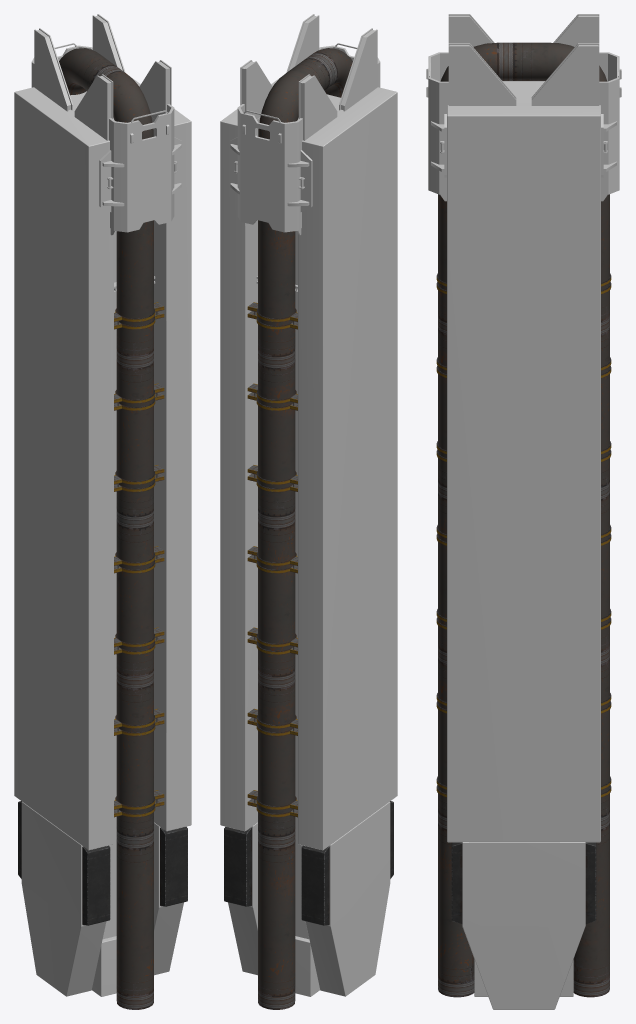
File: Wall_Large_05.fbx
3 renders of one model, left to right at view 1: azimuth 30°, elevation 25°; view 2: azimuth 150°, elevation 25°; view 3: azimuth 270°, elevation 25°, orthographic. The views are drawn at different scales.
Parts seen in each view (by area): view 1: Concrete_Block, Pipe2, Element2, Element3, Plate; view 2: Concrete_Block, Pipe2, Element2, Element3, Plate; view 3: Concrete_Block, Pipe2, Element2, Element3.
Boxes of the visible parts, left/top/right/bottom form: Concrete_Block: left=14, top=76, right=191, bottom=996; Pipe2: left=59, top=48, right=164, bottom=1009; Element2: left=31, top=14, right=182, bottom=235; Element3: left=18, top=801, right=187, bottom=925; Plate: left=102, top=293, right=116, bottom=939; Concrete_Block: left=220, top=76, right=397, bottom=996; Pipe2: left=247, top=48, right=352, bottom=1009; Element2: left=229, top=14, right=380, bottom=235; Element3: left=224, top=801, right=393, bottom=925; Plate: left=295, top=293, right=309, bottom=939; Concrete_Block: left=447, top=81, right=600, bottom=1009; Pipe2: left=436, top=42, right=611, bottom=997; Element2: left=426, top=14, right=621, bottom=201; Element3: left=451, top=842, right=596, bottom=923.
Bounding box in the file's own units: 400 × 3431 × 634.
